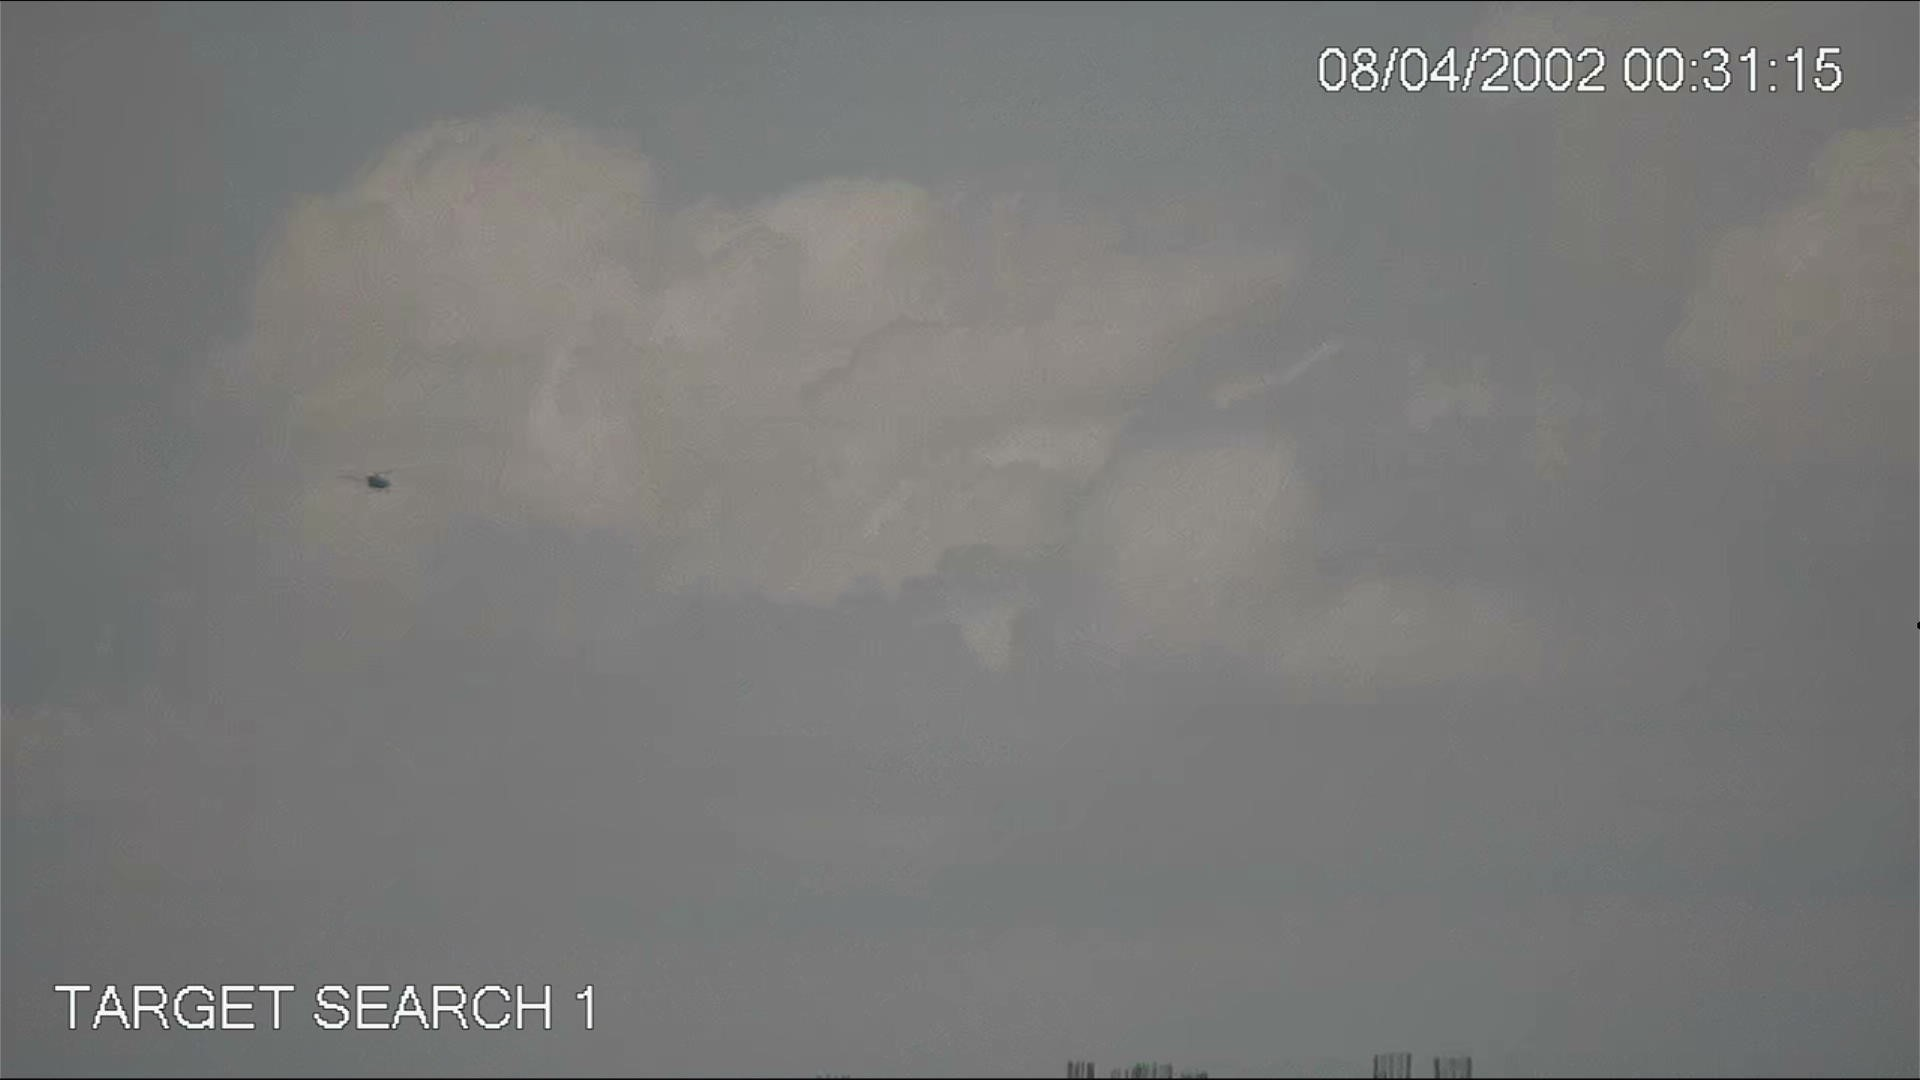SU_30: (328, 467, 402, 492)
